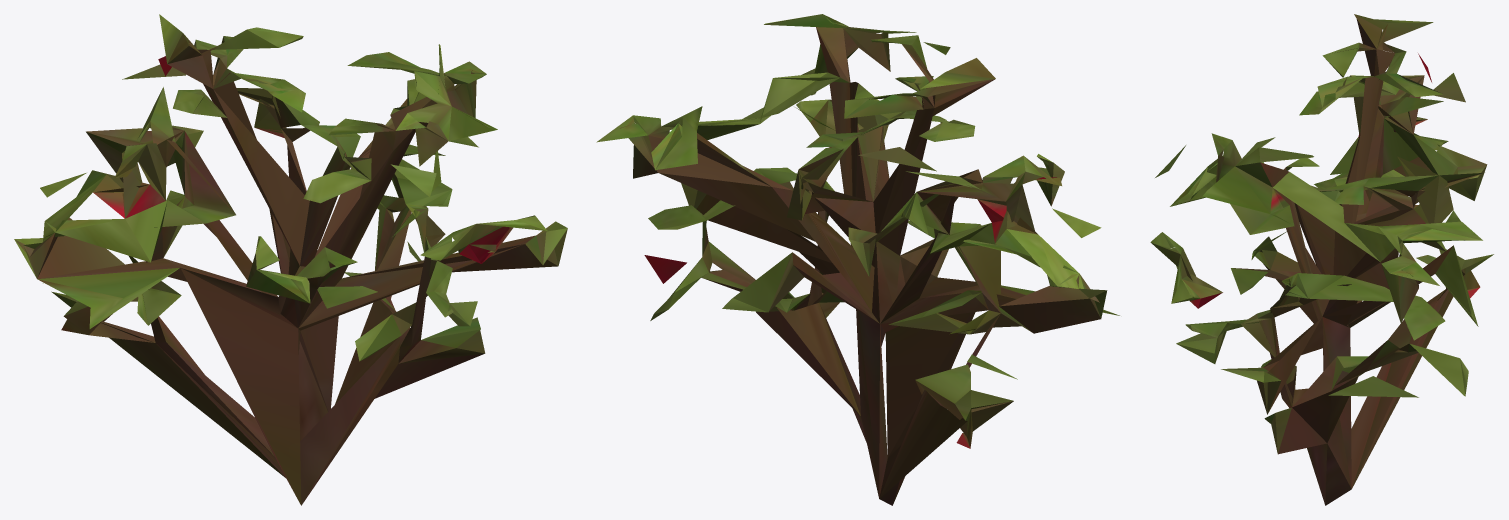
File: bg_field_bush_1_lod0.glb
3 views of the same model, side by side, from view 1: azimuth 30°, elevation 25°; view 2: azimuth 150°, elevation 25°; view 3: azimuth 270°, elevation 25° (orthographic). The views are drawn at different scales.
Parts seen in each view (by area): view 1: body, sway; view 2: body, sway; view 3: sway, body.
Boxes of the visible parts, <box> form: body: <box>30,33,558,505</box>; sway: <box>14,14,567,361</box>; body: <box>620,27,1100,505</box>; sway: <box>596,14,1119,420</box>; sway: <box>1150,14,1493,453</box>; body: <box>1182,14,1483,505</box>.
Size of the model in its own units: 1.34 by 1.26 by 0.8813.
1 material, 1 textured.
